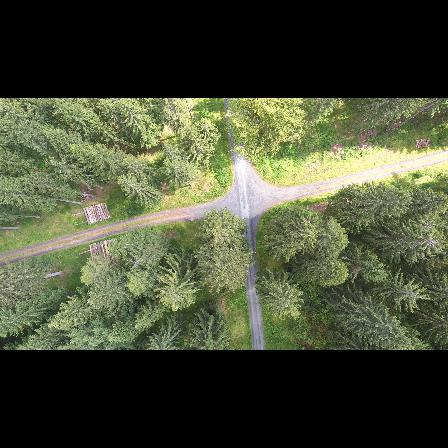Sick: (403, 284, 428, 308), (125, 251, 147, 273), (421, 233, 443, 254)
